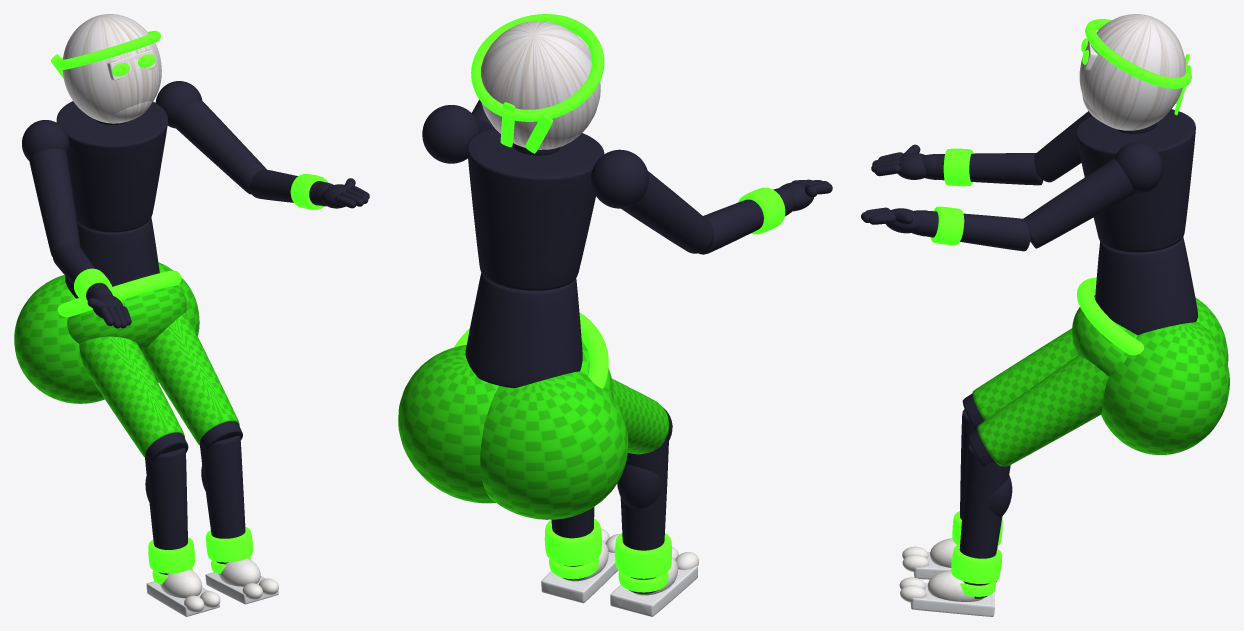
Rendered from character-neon.glb.
3 renders of one model, left to right at view 1: azimuth 30°, elevation 25°; view 2: azimuth 150°, elevation 25°; view 3: azimuth 270°, elevation 25°, orthographic. The views are drawn at different scales.
Visible parts, largest first — view 1: spine, head, kneeL, kneeR, thighR, thighL, cheekR, pelvis, shoulderL, shoulderR, elbowL, elbowR (+1 smaller); view 2: spine, cheekR, head, cheekL, kneeR, kneeL, elbowR, shoulderR, thighR, pelvis; view 3: spine, cheekL, head, kneeL, thighL, elbowR, elbowL, shoulderL, thighR, pelvis, kneeR, shoulderR (+1 smaller).
Boxes of the visible parts, x1=… form: spine: x1=22, y1=81, x2=202, y2=298; head: x1=51, y1=14, x2=161, y2=123; kneeL: x1=200, y1=435, x2=278, y2=604; kneeR: x1=145, y1=448, x2=220, y2=616; thighR: x1=79, y1=336, x2=188, y2=463; thighL: x1=142, y1=312, x2=242, y2=450; cheekR: x1=14, y1=275, x2=104, y2=403; pelvis: x1=57, y1=270, x2=186, y2=352; shoulderL: x1=174, y1=99, x2=266, y2=194; shoulderR: x1=29, y1=148, x2=80, y2=256; elbowL: x1=249, y1=169, x2=369, y2=209; elbowR: x1=52, y1=243, x2=131, y2=328; spine: x1=422, y1=105, x2=648, y2=388; cheekR: x1=480, y1=371, x2=628, y2=519; head: x1=471, y1=14, x2=604, y2=153; cheekL: x1=398, y1=345, x2=498, y2=503; kneeR: x1=610, y1=440, x2=698, y2=616; kneeL: x1=541, y1=507, x2=619, y2=603; elbowR: x1=698, y1=179, x2=832, y2=254; shoulderR: x1=621, y1=171, x2=713, y2=253; thighR: x1=612, y1=378, x2=672, y2=454; pelvis: x1=454, y1=312, x2=612, y2=396; spine: x1=1075, y1=109, x2=1197, y2=335; cheekL: x1=1101, y1=321, x2=1229, y2=455; head: x1=1079, y1=14, x2=1191, y2=130; kneeL: x1=899, y1=443, x2=1012, y2=616; thighL: x1=968, y1=355, x2=1108, y2=466; elbowR: x1=871, y1=144, x2=1043, y2=186; elbowL: x1=861, y1=206, x2=1030, y2=251; shoulderL: x1=1023, y1=158, x2=1135, y2=248; thighR: x1=962, y1=328, x2=1077, y2=429; pelvis: x1=1072, y1=277, x2=1143, y2=376; kneeR: x1=902, y1=409, x2=1002, y2=582; shoulderR: x1=1034, y1=111, x2=1091, y2=182.
Size of the model in its own units: 2.02 by 3.85 by 2.28.
Materials: 6 (6 with a texture image).
